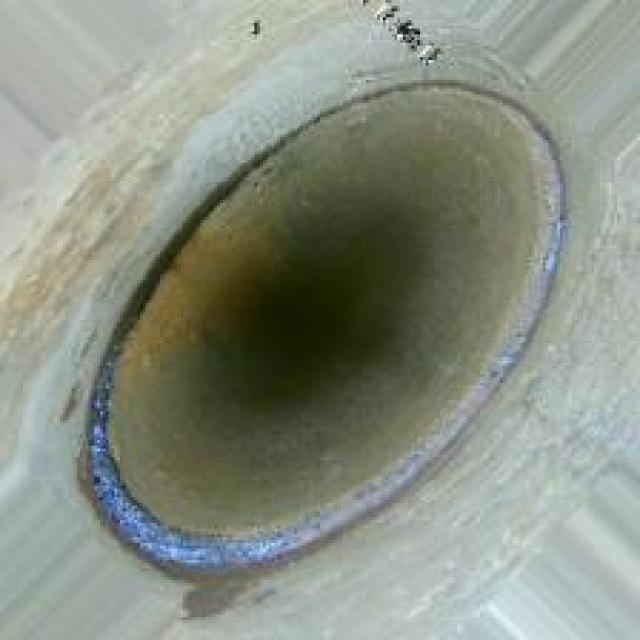joint: (60, 71, 583, 583)
